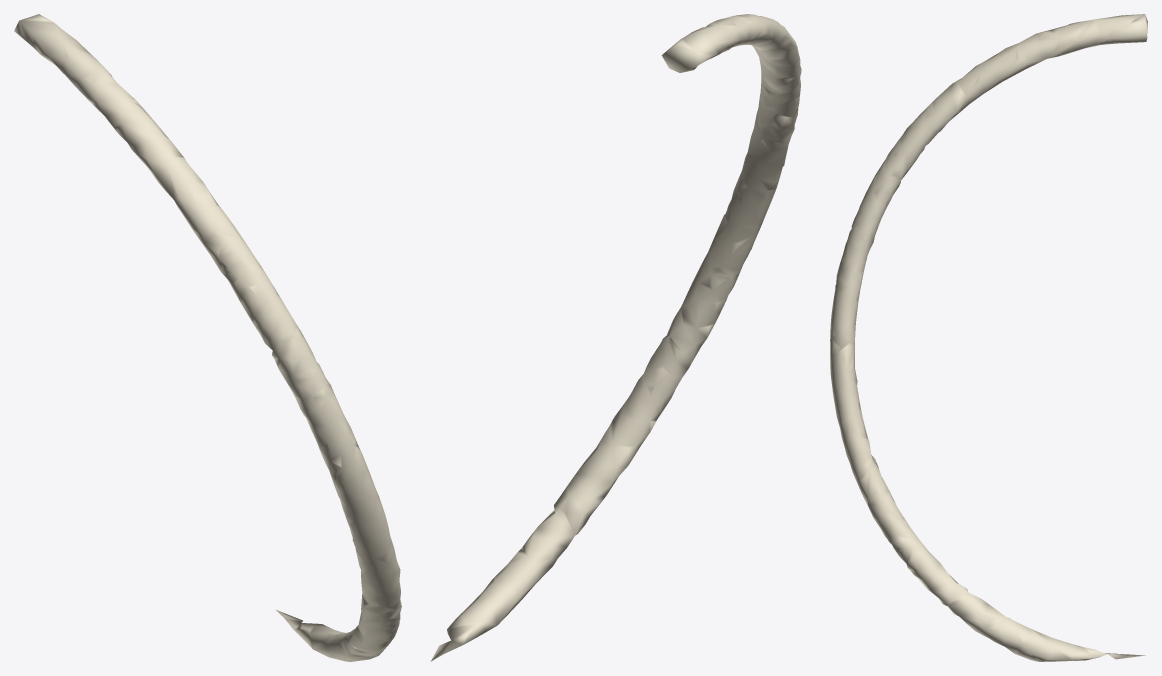
Rendered from rib_5_l.glb.
3 views of the same model, side by side, from view 1: azimuth 30°, elevation 25°; view 2: azimuth 150°, elevation 25°; view 3: azimuth 270°, elevation 25° (orthographic). The views are drawn at different scales.
Visible parts, largest first — view 1: geometry_0; view 2: geometry_0; view 3: geometry_0.
Part boxes in pixels (x1,y1,x2,y2): geometry_0: [14, 14, 401, 661]; geometry_0: [430, 14, 801, 661]; geometry_0: [830, 14, 1147, 661].
Bounding box in the file's own units: 0.2724 × 0.6041 × 0.322.
